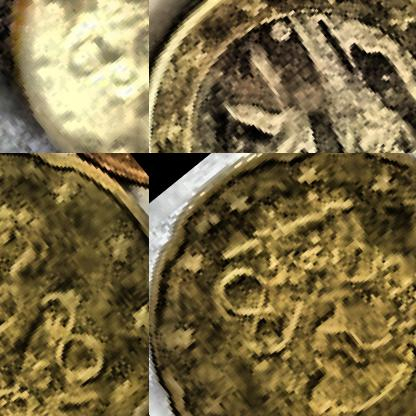coin: (149, 153, 415, 415), (149, 0, 415, 152), (0, 153, 148, 415), (0, 0, 148, 152)
